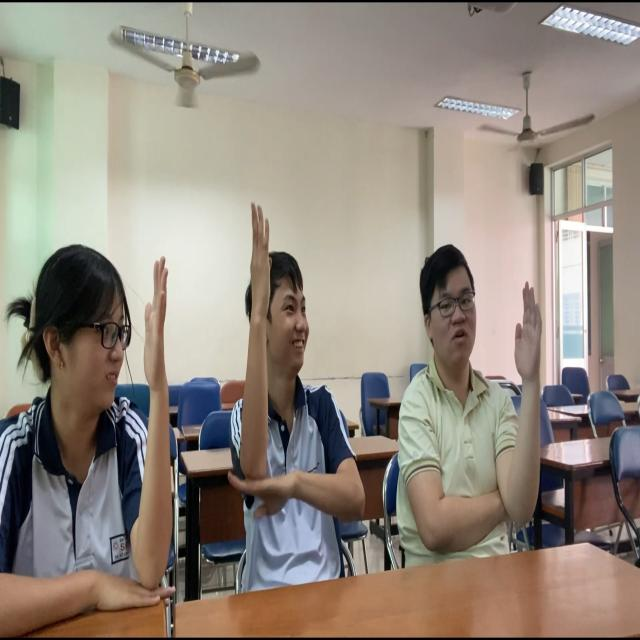raise_hand: (1, 196, 194, 640), (219, 192, 376, 603), (395, 206, 554, 581)
